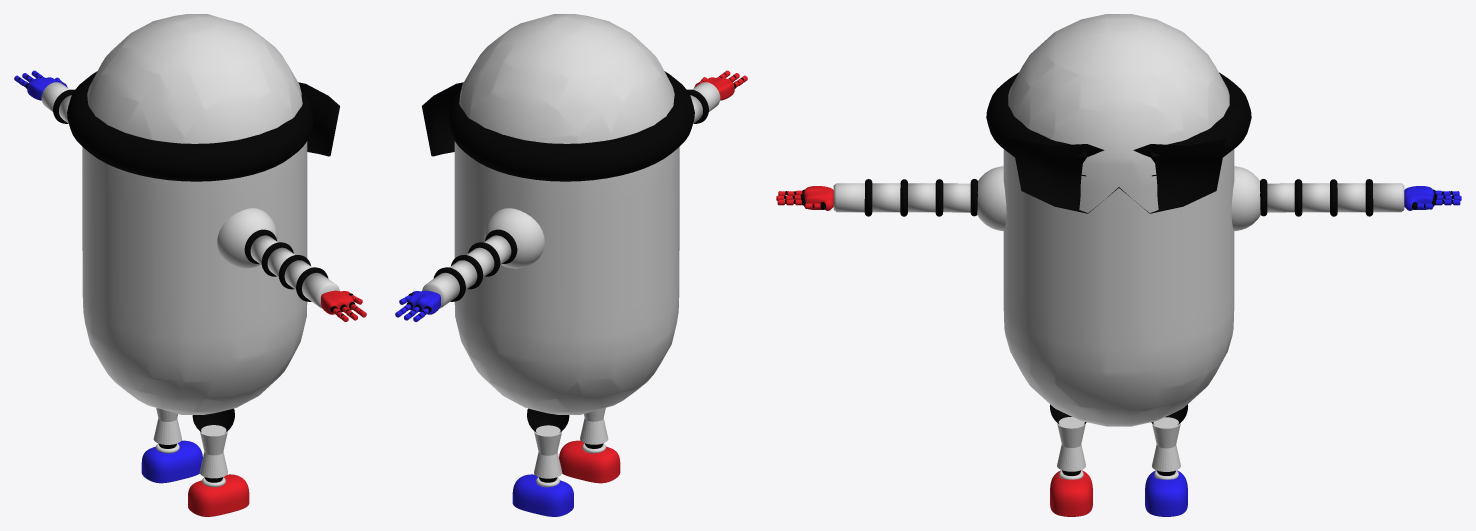
Rendered from Player-draft3 T-Pose__For_Main_Menu_Unity.fbx.
The picture shows the model from 3 angles, left to right: view 1: azimuth 30°, elevation 25°; view 2: azimuth 150°, elevation 25°; view 3: azimuth 270°, elevation 25°; orthographic projection. The views are drawn at different scales.
Visible parts, largest first — view 1: Body.001, Leg Glass, Feet, Arm.002, Leg, Shoulder, Hand, Finger; view 2: Body.001, Leg Glass, Feet, Arm.002, Leg, Shoulder, Hand, Finger; view 3: Body.001, Arm.002, Leg Glass, Feet, Shoulder, Leg, Hand, Finger.
Boxes of the visible parts, <box> form: Body.001: <box>82,14,339,414</box>; Leg Glass: <box>67,71,313,181</box>; Feet: <box>141,440,249,516</box>; Arm.002: <box>41,82,339,308</box>; Leg: <box>153,408,234,482</box>; Shoulder: <box>217,208,277,268</box>; Hand: <box>27,77,353,314</box>; Finger: <box>14,70,366,321</box>; Body.001: <box>422,14,679,414</box>; Leg Glass: <box>448,71,694,181</box>; Feet: <box>512,440,620,516</box>; Arm.002: <box>422,82,720,308</box>; Leg: <box>527,408,608,482</box>; Shoulder: <box>484,208,544,268</box>; Hand: <box>408,77,734,314</box>; Finger: <box>395,70,747,321</box>; Body.001: <box>1003,14,1234,426</box>; Arm.002: <box>833,179,1404,216</box>; Leg Glass: <box>986,72,1251,176</box>; Feet: <box>1050,470,1187,516</box>; Shoulder: <box>977,166,1260,231</box>; Leg: <box>1050,404,1187,475</box>; Hand: <box>803,186,1434,210</box>; Finger: <box>776,189,1461,209</box>.
Size of the model in its own units: 247 by 524 by 679.
